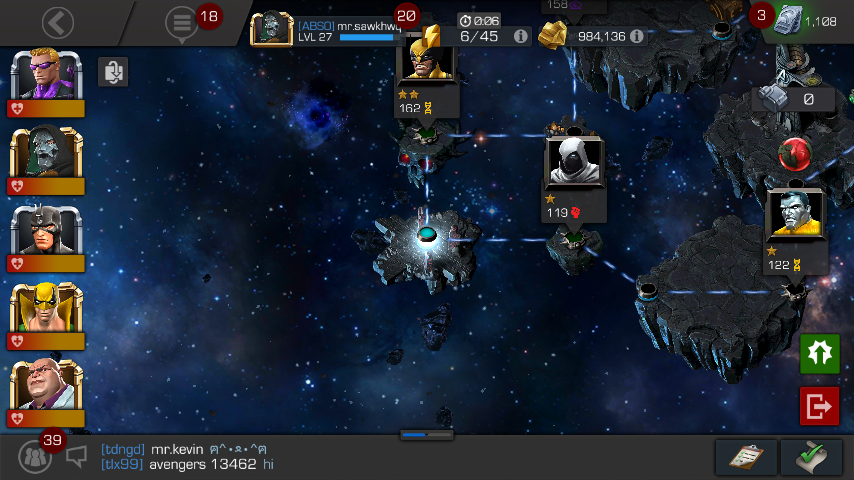green: (417, 126, 438, 141), (565, 231, 584, 245)
